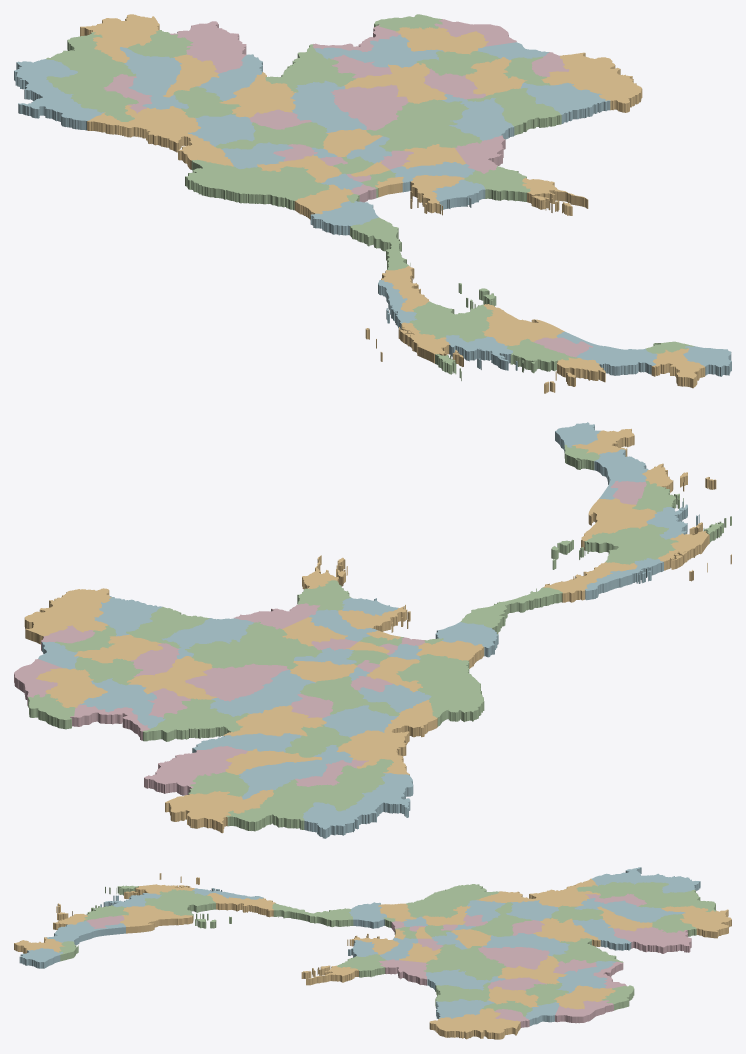
File: thailand-77-provinces.glb
3 renders of one model, top to bottom at view 1: azimuth 30°, elevation 25°; view 2: azimuth 150°, elevation 25°; view 3: azimuth 270°, elevation 25°, orthographic. The views are drawn at different scales.
Visible parts, largest first — view 1: TH-71, TH-50, TH-63, TH-30, TH-58, TH-34, TH-84, TH-36, TH-52, TH-55, TH-67, TH-57 (+50 smaller); view 2: TH-50, TH-71, TH-30, TH-58, TH-63, TH-34, TH-84, TH-57, TH-42, TH-55, TH-36, TH-52 (+47 smaller); view 3: TH-50, TH-34, TH-30, TH-71, TH-84, TH-55, TH-63, TH-80, TH-57, TH-58, TH-52, TH-36 (+52 smaller).
Boxes of the visible parts, left/top/right/bottom form: TH-71: left=185, top=159, right=329, bottom=210; TH-50: left=46, top=32, right=138, bottom=121; TH-63: left=87, top=105, right=233, bottom=169; TH-30: left=366, top=99, right=481, bottom=151; TH-58: left=14, top=59, right=104, bottom=130; TH-34: left=541, top=52, right=642, bottom=112; TH-84: left=409, top=283, right=496, bottom=342; TH-36: left=331, top=84, right=408, bottom=130; TH-52: left=120, top=47, right=188, bottom=109; TH-55: left=170, top=21, right=246, bottom=73; TH-67: left=290, top=80, right=366, bottom=132; TH-57: left=80, top=14, right=159, bottom=62; TH-50: left=226, top=759, right=393, bottom=831; TH-71: left=396, top=654, right=484, bottom=726; TH-30: left=185, top=621, right=322, bottom=669; TH-58: left=302, top=773, right=413, bottom=838; TH-63: left=336, top=700, right=437, bottom=775; TH-34: left=24, top=588, right=111, bottom=644; TH-84: left=551, top=524, right=678, bottom=569; TH-57: left=165, top=789, right=273, bottom=833; TH-42: left=143, top=698, right=249, bottom=741; TH-55: left=144, top=746, right=247, bottom=795; TH-36: left=185, top=663, right=289, bottom=701; TH-52: left=238, top=744, right=353, bottom=799; TH-50: left=576, top=882, right=716, bottom=911; TH-34: left=429, top=1008, right=520, bottom=1039; TH-30: left=424, top=944, right=506, bottom=980; TH-71: left=406, top=884, right=499, bottom=918; TH-84: left=144, top=889, right=231, bottom=928; TH-55: left=613, top=927, right=691, bottom=953; TH-63: left=477, top=878, right=600, bottom=907; TH-80: left=120, top=905, right=193, bottom=933; TH-57: left=661, top=905, right=731, bottom=938; TH-58: left=592, top=867, right=700, bottom=893; TH-52: left=574, top=898, right=685, bottom=922; TH-36: left=478, top=946, right=549, bottom=969.
Bounding box in the file's own units: 6.57 × 0.12 × 12.
